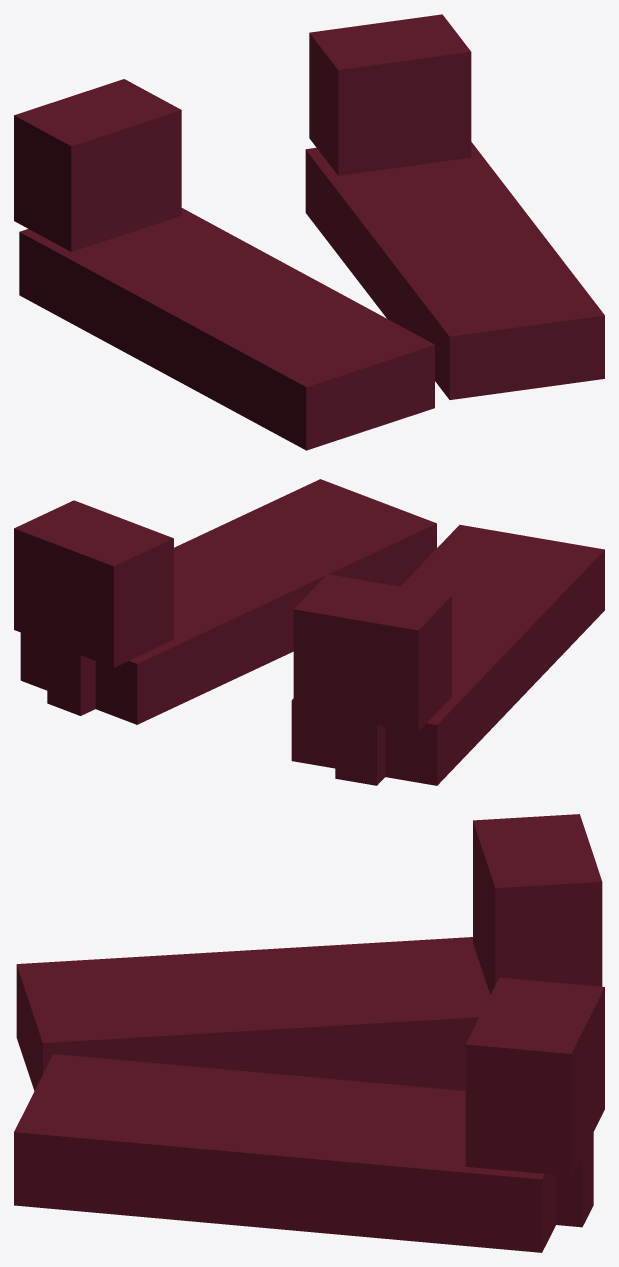
File: Heels.obj
The picture shows the model from 3 angles, top to bottom: view 1: azimuth 30°, elevation 25°; view 2: azimuth 150°, elevation 25°; view 3: azimuth 270°, elevation 25°; orthographic projection. The views are drawn at different scales.
Parts seen in each view (by area): view 1: Heels; view 2: Heels; view 3: Heels.
Part boxes in pixels (x1,y1,x2,y2): Heels: [14, 14, 604, 450]; Heels: [14, 479, 604, 785]; Heels: [14, 814, 604, 1252].
Bounding box in the file's own units: 0.2167 × 0.08 × 0.2189.
1 material, 1 textured.
